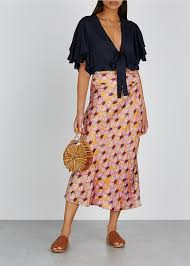C_skirt: (59, 64, 150, 220)
